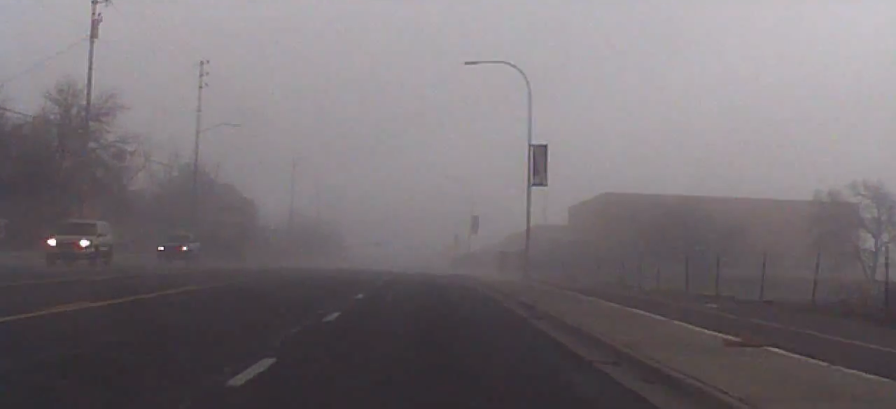car: (42, 217, 114, 267), (155, 231, 202, 265), (154, 229, 200, 263)
